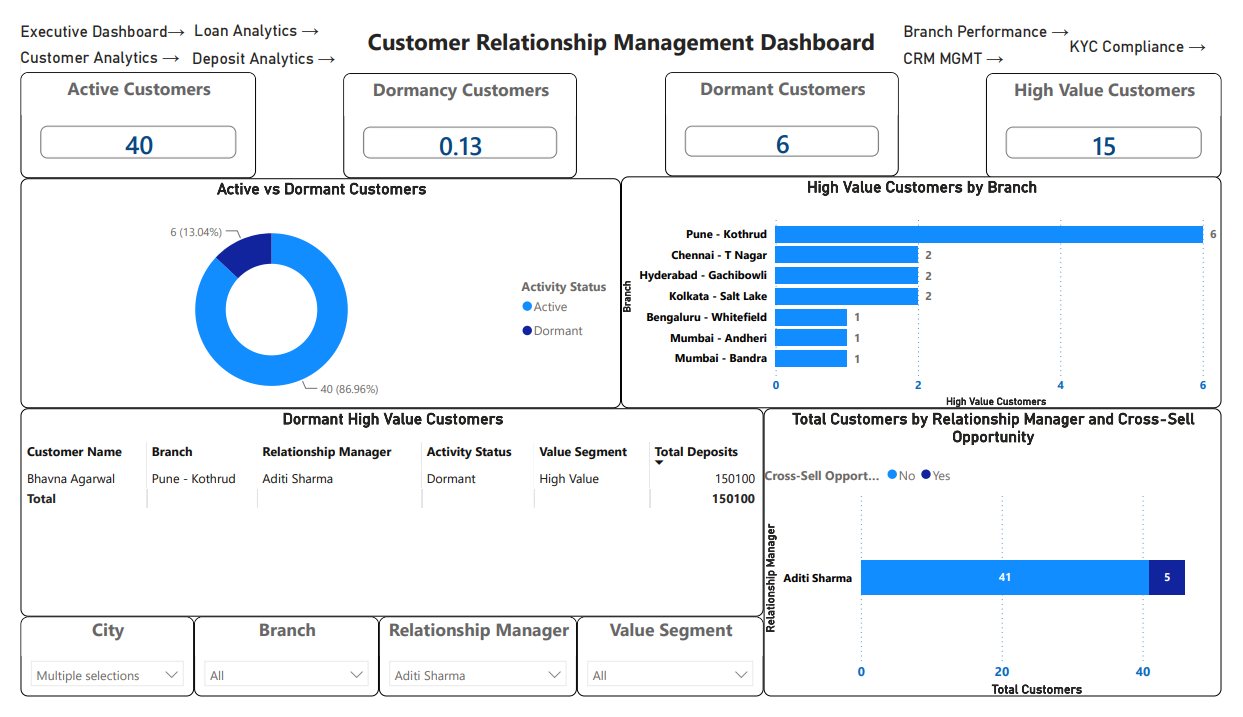

What the dashboard file says about the page in this screenshot:
{"tool":"powerbi","page":{"name":"CRM MGMT","canvas":[1280,720],"ordinal":5},"visuals":[{"type":"textbox","box":[343.6,0,593.1,56.3],"z":0},{"type":"cardVisual","title":"Active Customers","fields":{"Data":["CRM Mesure.Active Customers"]},"box":[0,55,250.7,112.5],"z":1000},{"type":"cardVisual","title":"Dormant Customers","fields":{"Data":["CRM Mesure.Dormant Customers"]},"box":[686.8,55,249.5,111.3],"z":2000},{"type":"cardVisual","title":"Dormancy Customers","fields":{"Data":["CRM Mesure.Dormancy Rate"]},"box":[344,56.3,249.5,111.3],"z":3000},{"type":"cardVisual","title":"High Value Customers","fields":{"Data":["CRM Mesure.High Value Customers"]},"box":[1029.3,56.3,250.7,111.3],"z":4000},{"type":"donutChart","title":"Active vs Dormant Customers","fields":{"Category":["Customers.Activity Status"],"Y":["Mesures.Total Customers"]},"box":[0,167.5,639.5,245.8],"z":5000},{"type":"clusteredBarChart","title":"High Value Customers by Branch","fields":{"Category":["Customers.Branch"],"Y":["CRM Mesure.High Value Customers"]},"box":[639.5,166.3,640.8,247],"z":6000},{"type":"tableEx","title":"Dormant High Value Customers","fields":{"Values":["Customers.Customer Name","Customers.Branch","Customers.Relationship Manager","Customers.Activity Status","Customers.Value Segment","Mesures.Total Deposits"]},"box":[0,413.3,792.4,221.3],"z":7000},{"type":"barChart","fields":{"Category":["Customers.Relationship Manager"],"Y":["Mesures.Total Customers"],"Series":["Customers.Cross-Sell Opportunity"]},"box":[792.4,413.3,487.9,306.9],"z":8000},{"type":"slicer","title":"Branch","fields":{"Values":["Customers.Branch"]},"box":[184.6,634.7,196.9,85.6],"z":9000},{"type":"slicer","title":"Value Segment","fields":{"Values":["Customers.Value Segment"]},"box":[593.1,634.7,199.3,85.6],"z":10000},{"type":"slicer","title":"Relationship Manager","fields":{"Values":["Customers.Relationship Manager"]},"box":[381.5,634.7,211.6,85.6],"z":11000},{"type":"slicer","title":"City","fields":{"Values":["Customers.City"]},"box":[0,634.7,184.6,85.6],"z":12000},{"type":"actionButton","title":"Customer Analytics →","box":[0,27.7,177.3,29],"z":13000},{"type":"actionButton","title":"Loan Analytics →","box":[184.6,0,135.7,28.1],"z":14000},{"type":"actionButton","title":"Deposit Analytics →","box":[183.4,29.3,160.2,28.1],"z":15000},{"type":"actionButton","title":"Branch Performance →","box":[941,1.2,177.3,29],"z":16000},{"type":"actionButton","title":"CRM MGMT →","box":[941,29,160.5,29],"z":17000},{"type":"actionButton","title":"KYC Compliance →","box":[1118.4,15.7,155.6,29],"z":18000},{"type":"actionButton","title":"Executive Dashboard→","box":[0,1.2,177.3,29],"z":19000}]}

Visuals, with their boxes in screenshot pixels (x1, y1, x2, y2), scaled from the page's 1280x720 canvas onto the 1243x717 screenshot:
textbox: x1=334, y1=0, x2=910, y2=56
"Active Customers" cardVisual: x1=0, y1=55, x2=243, y2=167
"Dormant Customers" cardVisual: x1=667, y1=55, x2=909, y2=166
"Dormancy Customers" cardVisual: x1=334, y1=56, x2=576, y2=167
"High Value Customers" cardVisual: x1=1000, y1=56, x2=1242, y2=167
"Active vs Dormant Customers" donutChart: x1=0, y1=167, x2=621, y2=412
"High Value Customers by Branch" clusteredBarChart: x1=621, y1=166, x2=1242, y2=412
"Dormant High Value Customers" tableEx: x1=0, y1=412, x2=769, y2=632
barChart - Customers.Relationship Manager x Mesures.Total Customers: x1=769, y1=412, x2=1242, y2=716
"Branch" slicer: x1=179, y1=632, x2=370, y2=716
"Value Segment" slicer: x1=576, y1=632, x2=769, y2=716
"Relationship Manager" slicer: x1=370, y1=632, x2=576, y2=716
"City" slicer: x1=0, y1=632, x2=179, y2=716
"Customer Analytics →" actionButton: x1=0, y1=28, x2=172, y2=56
"Loan Analytics →" actionButton: x1=179, y1=0, x2=311, y2=28
"Deposit Analytics →" actionButton: x1=178, y1=29, x2=334, y2=57
"Branch Performance →" actionButton: x1=914, y1=1, x2=1086, y2=30
"CRM MGMT →" actionButton: x1=914, y1=29, x2=1070, y2=58
"KYC Compliance →" actionButton: x1=1086, y1=16, x2=1237, y2=45
"Executive Dashboard→" actionButton: x1=0, y1=1, x2=172, y2=30
